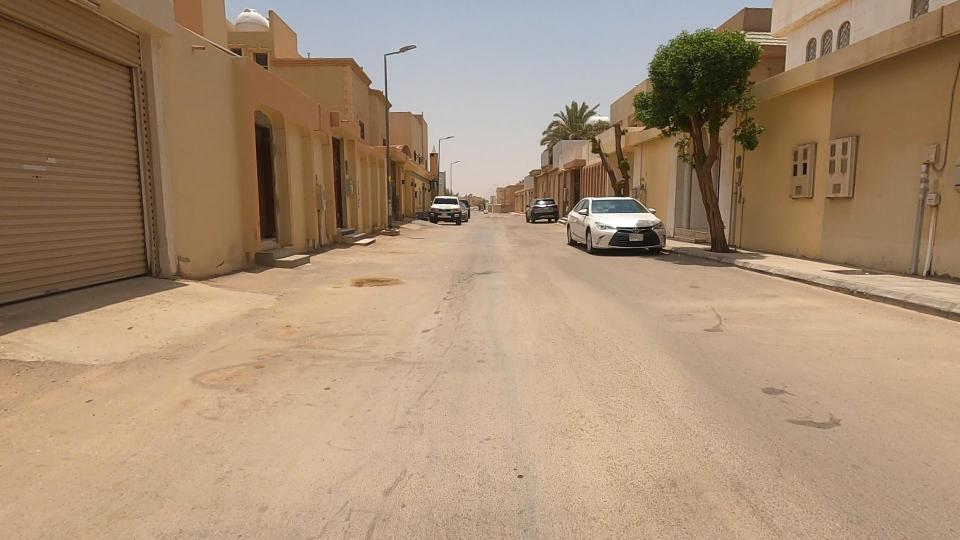POTHOLES: (328, 249, 411, 314)
